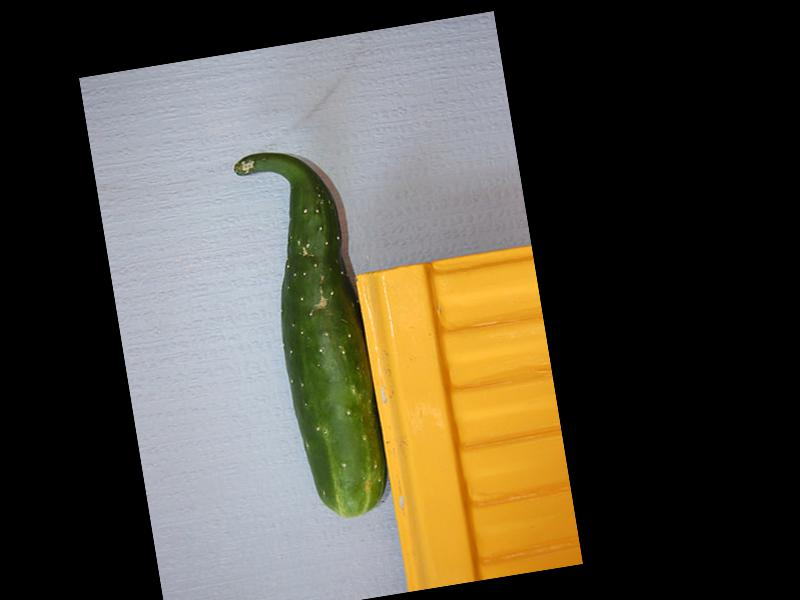Cucumber: (231, 139, 394, 524)
